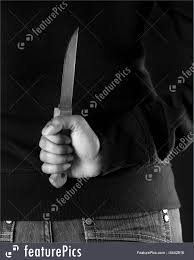knife: (45, 22, 83, 198)
